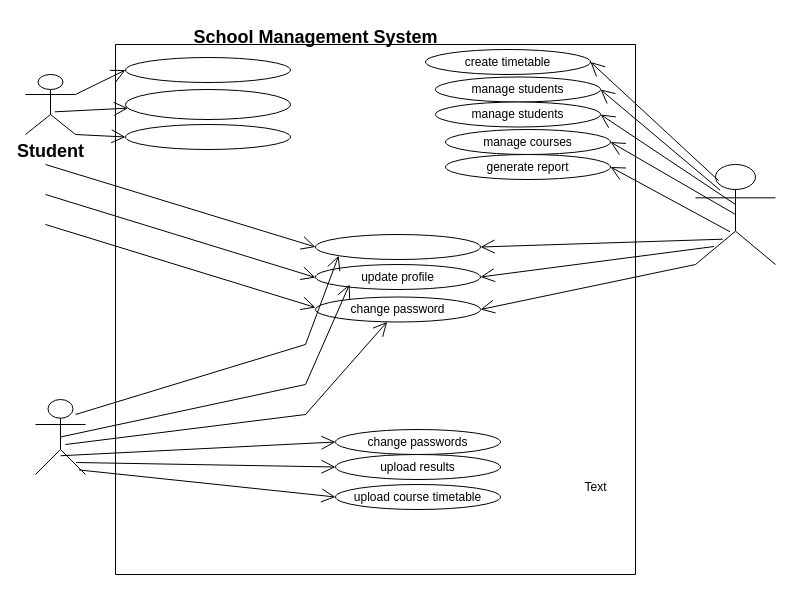
The diagram is 793 pixels wide and 592 high, and some of its shapes have lost their labels. Here are the shapes that lost their labels. From the top down, the box of each, then its label:
(124, 56, 290, 82): enroll in a course
(124, 88, 290, 120): view course material
(124, 124, 290, 150): view timetable
(694, 164, 776, 264): Admin
(314, 234, 480, 260): login/logout
(34, 398, 86, 474): Teacher
